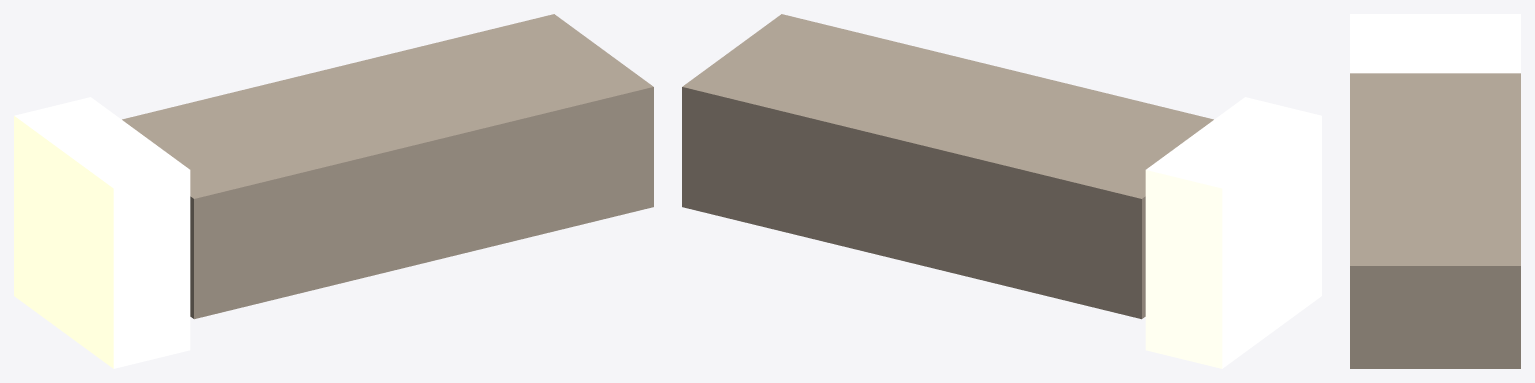
The model's file is Where_House_.glb.
3 renders of one model, left to right at view 1: azimuth 30°, elevation 25°; view 2: azimuth 150°, elevation 25°; view 3: azimuth 270°, elevation 25°, orthographic. The views are drawn at different scales.
Parts seen in each view (by area): view 1: Cube, Cube.001; view 2: Cube, Cube.001; view 3: Cube, Cube.001.
Part boxes in pixels (bbox=[...]): Cube: bbox=[122, 14, 653, 319]; Cube.001: bbox=[14, 97, 190, 368]; Cube: bbox=[682, 14, 1213, 319]; Cube.001: bbox=[1145, 97, 1321, 368]; Cube: bbox=[1350, 73, 1520, 368]; Cube.001: bbox=[1350, 14, 1520, 73].
Bounding box in the file's own units: 14.1 × 4.5 × 4.5.
